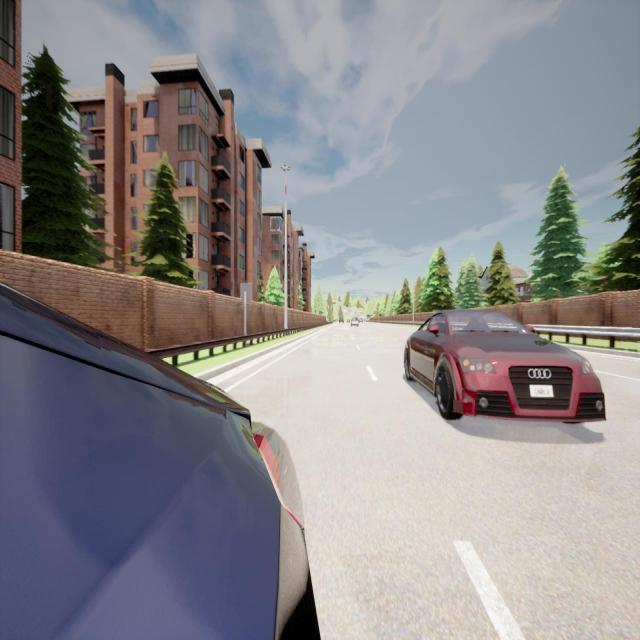Traffic_Signs: (240, 282, 252, 302)
Vehicle: (0, 283, 320, 640), (404, 310, 605, 421), (351, 317, 359, 327), (339, 318, 345, 323), (359, 318, 364, 324)
